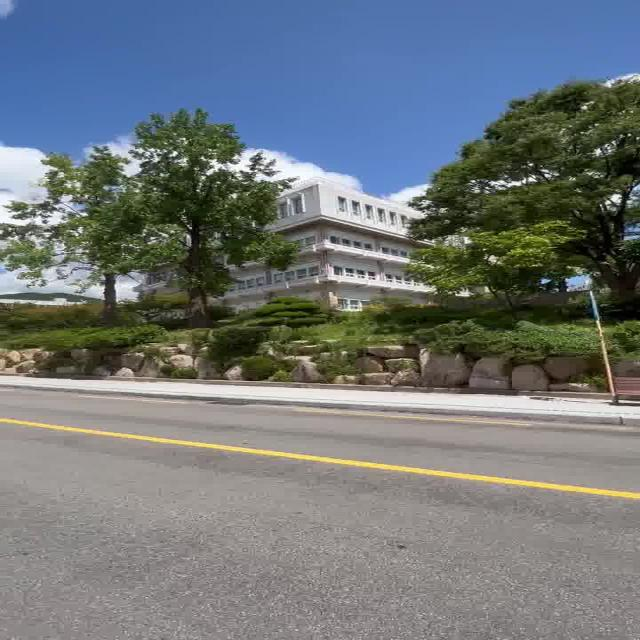building: (292, 182, 418, 303)
